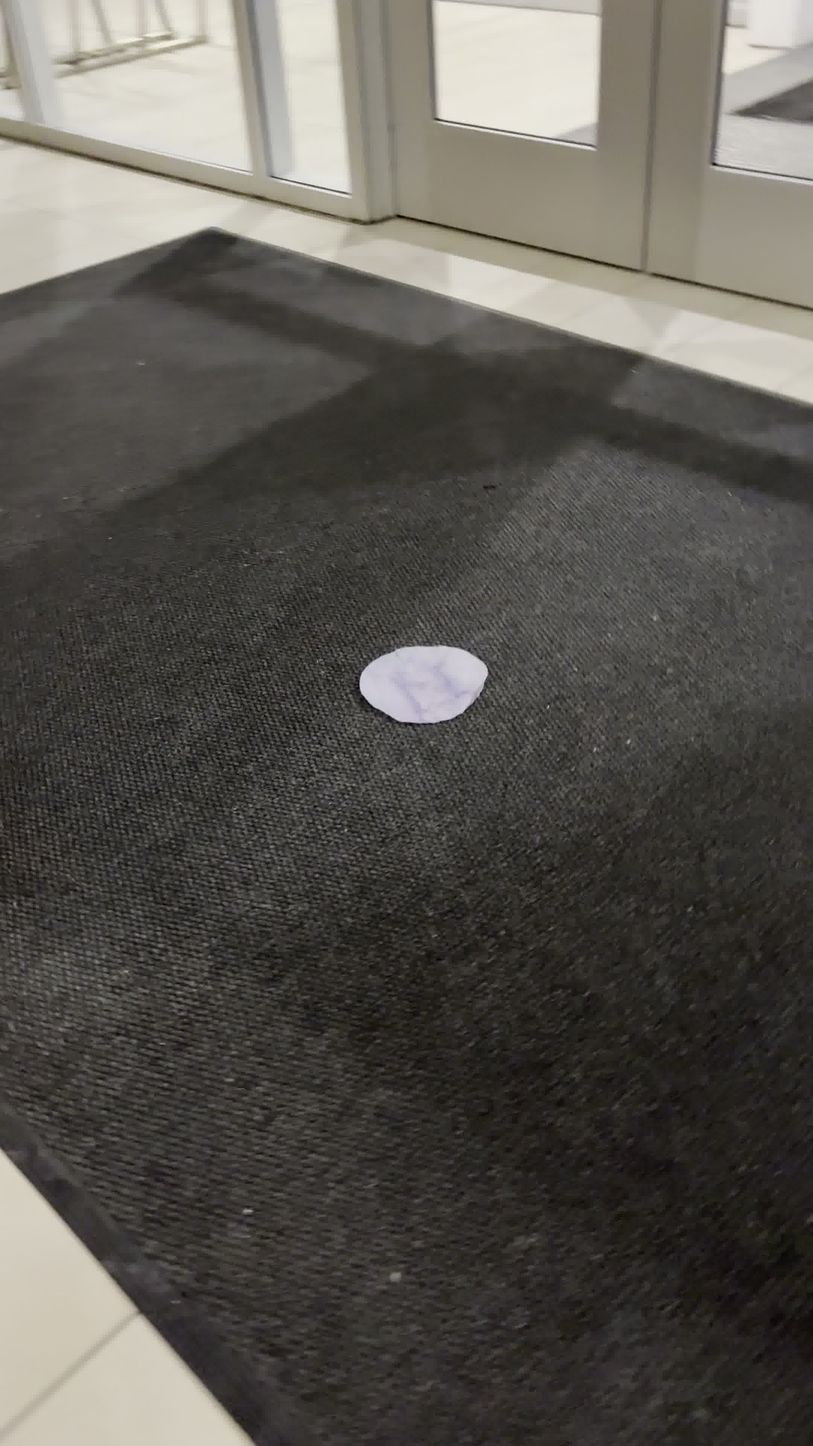Target: (359, 645, 488, 723)
